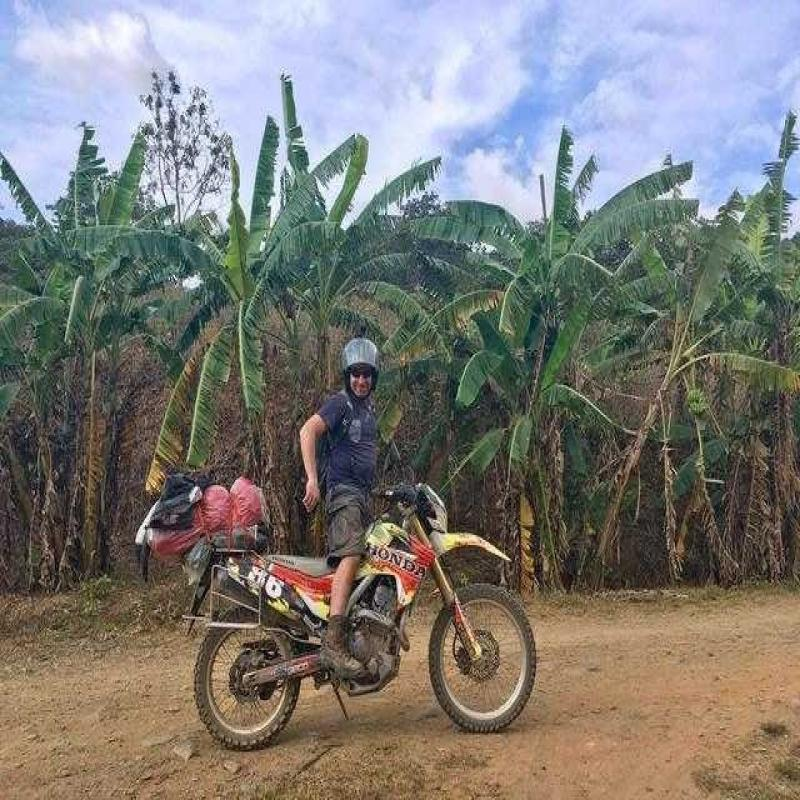bike: (147, 413, 571, 745)
